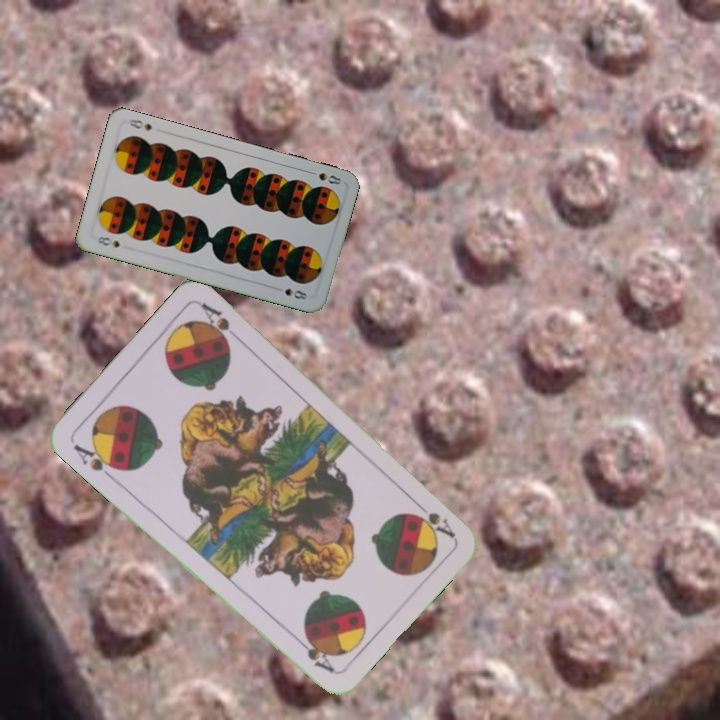S8: (304, 167, 344, 187), (93, 232, 122, 250)
SA: (69, 439, 124, 483), (409, 495, 458, 541)
